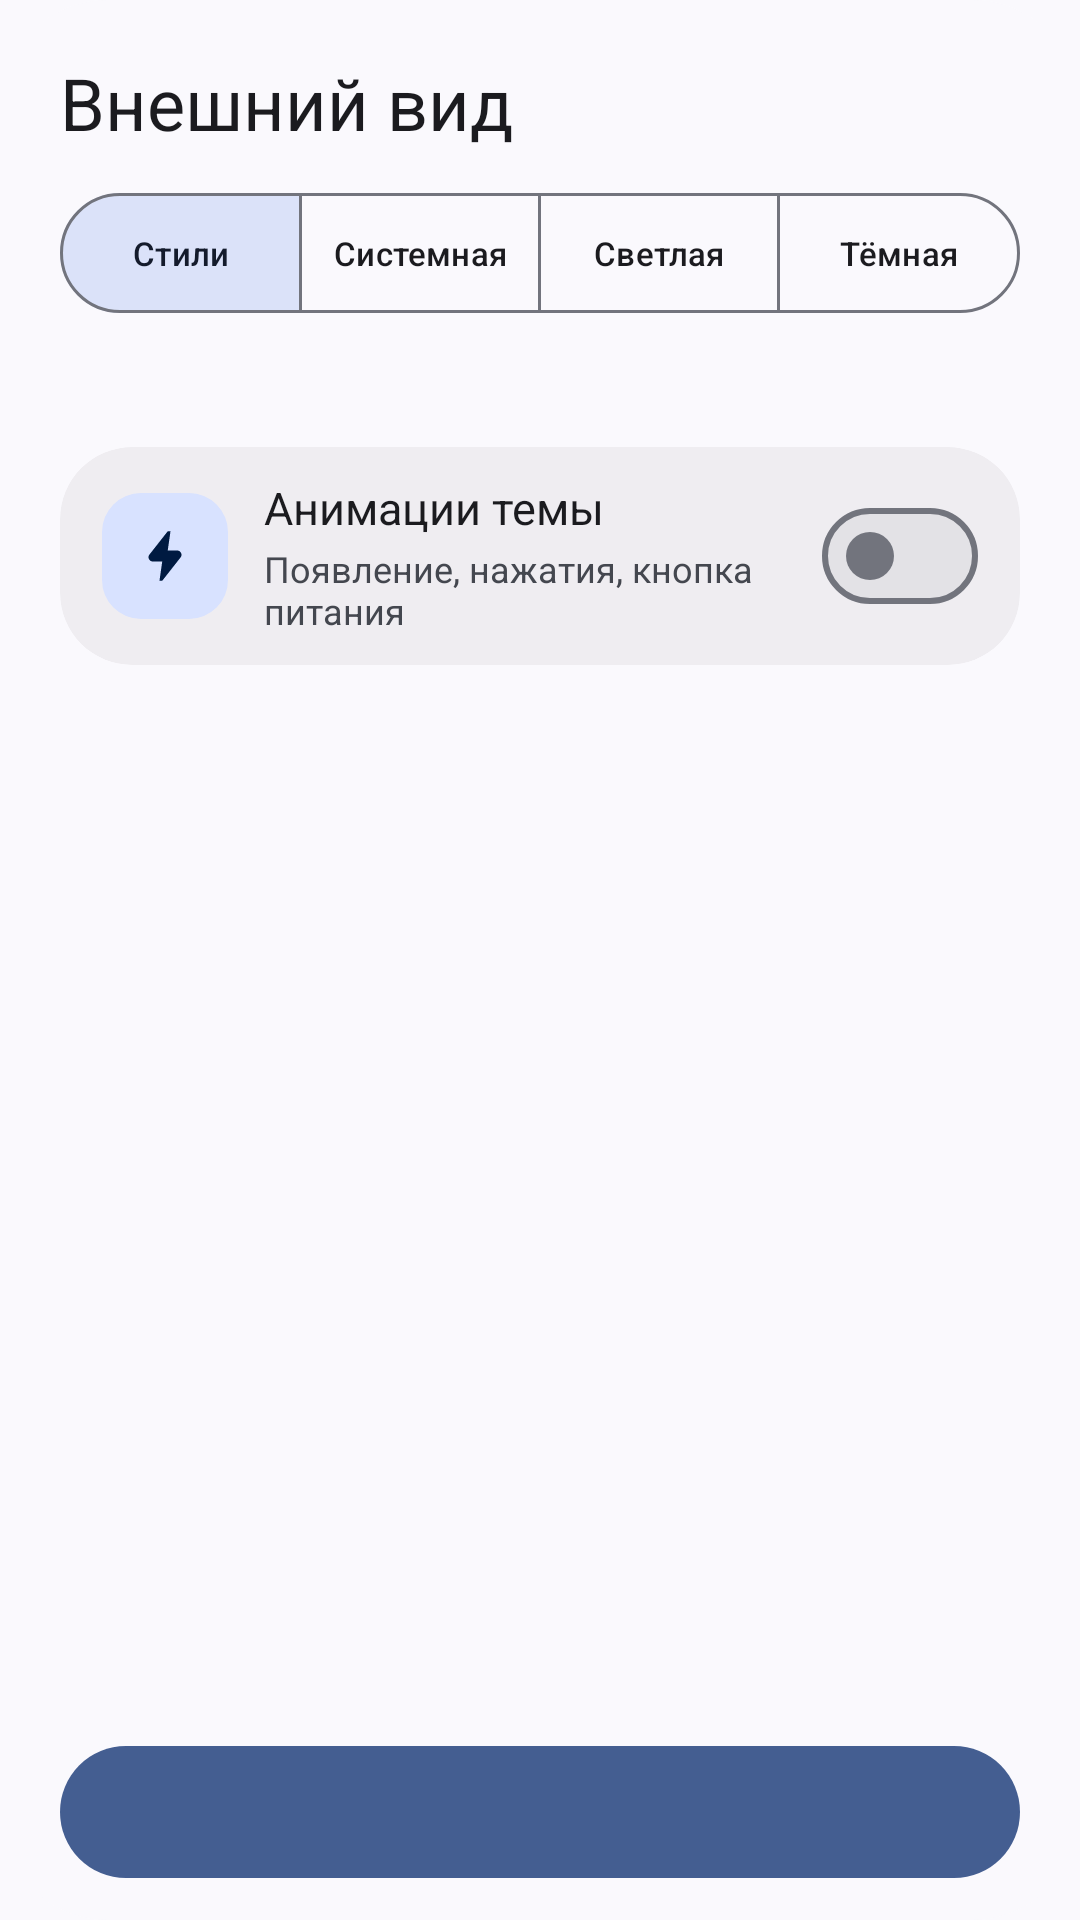

Named icons in this screenshot (1080*1920) and their bounding boxes, bbox=(x1, y1, x2, y2):
bolt: bbox=(148, 531, 182, 581)
